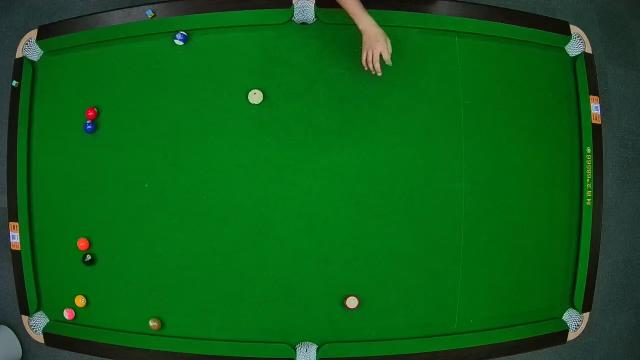bag1: (19, 36, 45, 64)
bag2: (292, 0, 316, 26)
bag3: (563, 30, 589, 57)
bag4: (25, 309, 51, 339)
bag5: (294, 340, 318, 360)
bag6: (560, 306, 586, 334)
ball0: (248, 88, 264, 105)
ball1: (72, 292, 90, 310)
ball10: (172, 30, 190, 46)
ball11: (344, 294, 360, 312)
ball12: (62, 306, 76, 322)
ball2: (84, 120, 98, 134)
ball3: (84, 106, 100, 120)
ball5: (76, 235, 92, 251)
ball7: (148, 316, 164, 332)
ball8: (80, 252, 96, 268)
